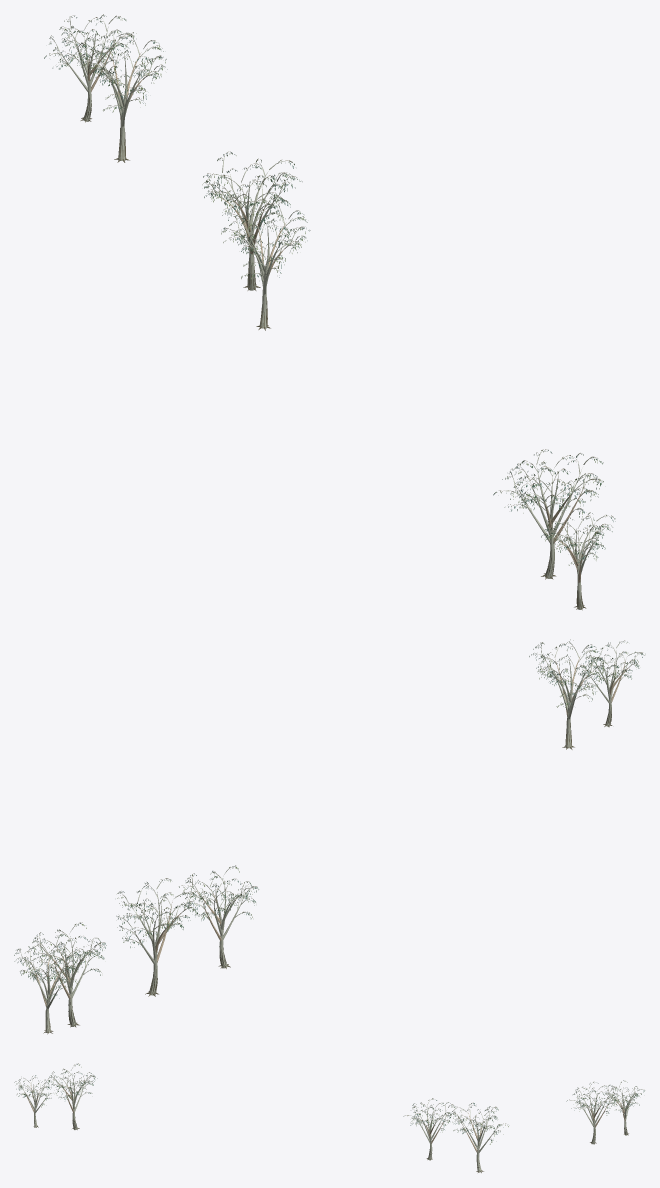
The model's file is ecology-eucalyptus-mid-1.glb.
The picture shows the model from 3 angles, top to bottom: view 1: azimuth 30°, elevation 25°; view 2: azimuth 150°, elevation 25°; view 3: azimuth 270°, elevation 25°; orthographic projection. The views are drawn at different scales.
Visible parts, largest first — view 1: eucalyptus-mid-6, eucalyptus-mid-10, eucalyptus-mid-9, eucalyptus-mid-11, eucalyptus-mid-8, eucalyptus-mid-7; view 2: eucalyptus-mid-10, eucalyptus-mid-6, eucalyptus-mid-11, eucalyptus-mid-9, eucalyptus-mid-8, eucalyptus-mid-7; view 3: eucalyptus-mid-10, eucalyptus-mid-6, eucalyptus-mid-11, eucalyptus-mid-9, eucalyptus-mid-7, eucalyptus-mid-8.
Boxes of the visible parts, box(x1,y1,x2,y2) form: eucalyptus-mid-6: box(493, 449, 603, 579); eucalyptus-mid-10: box(202, 151, 302, 290); eucalyptus-mid-9: box(78, 32, 167, 162); eucalyptus-mid-11: box(221, 201, 310, 330); eucalyptus-mid-8: box(44, 14, 134, 122); eucalyptus-mid-7: box(541, 505, 615, 610); eucalyptus-mid-10: box(116, 878, 200, 996); eucalyptus-mid-6: box(529, 639, 606, 749); eucalyptus-mid-11: box(179, 865, 258, 968); eucalyptus-mid-9: box(28, 922, 106, 1027); eucalyptus-mid-8: box(14, 943, 77, 1034); eucalyptus-mid-7: box(580, 640, 645, 727); eucalyptus-mid-10: box(451, 1102, 508, 1172); eucalyptus-mid-6: box(48, 1063, 97, 1129); eucalyptus-mid-11: box(403, 1098, 454, 1160); eucalyptus-mid-9: box(566, 1082, 618, 1144); eucalyptus-mid-7: box(14, 1075, 57, 1127); eucalyptus-mid-8: box(604, 1080, 644, 1135).
Size of the model in its own units: 22.54 by 17.95 by 125.
